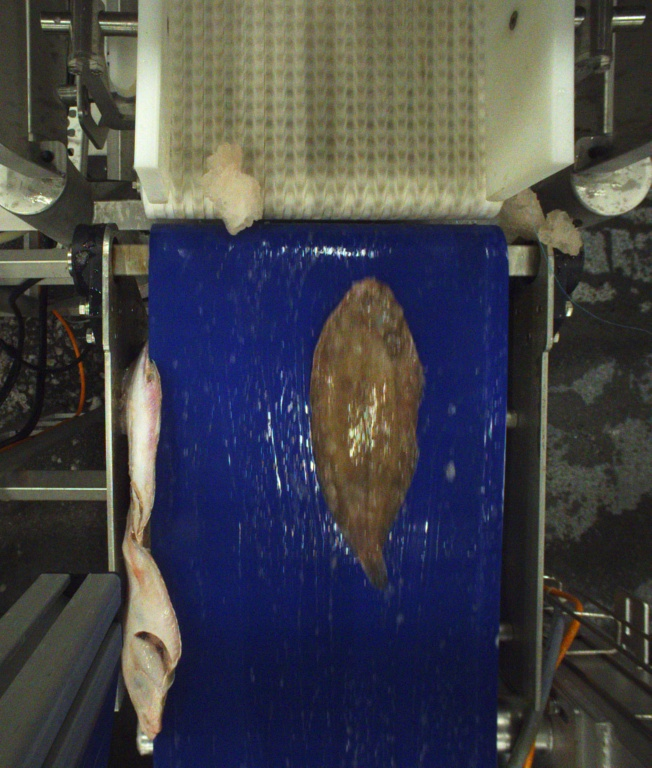SOL: (311, 278, 425, 595)
